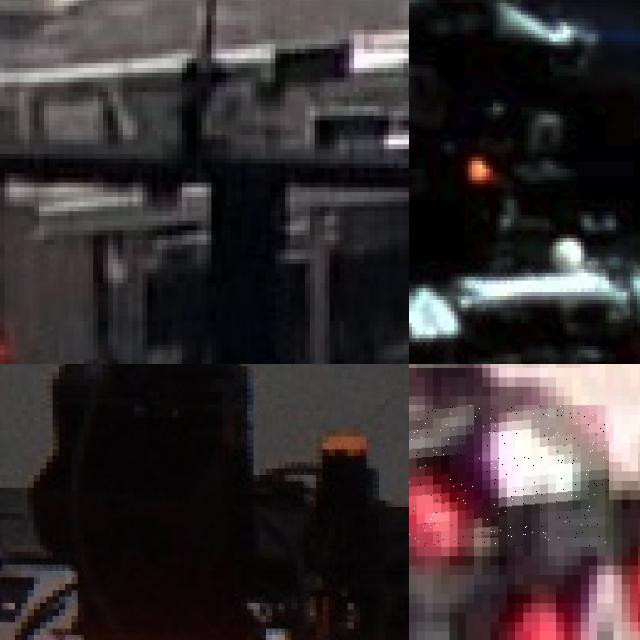R4: (409, 405, 609, 546), (486, 546, 640, 640)
